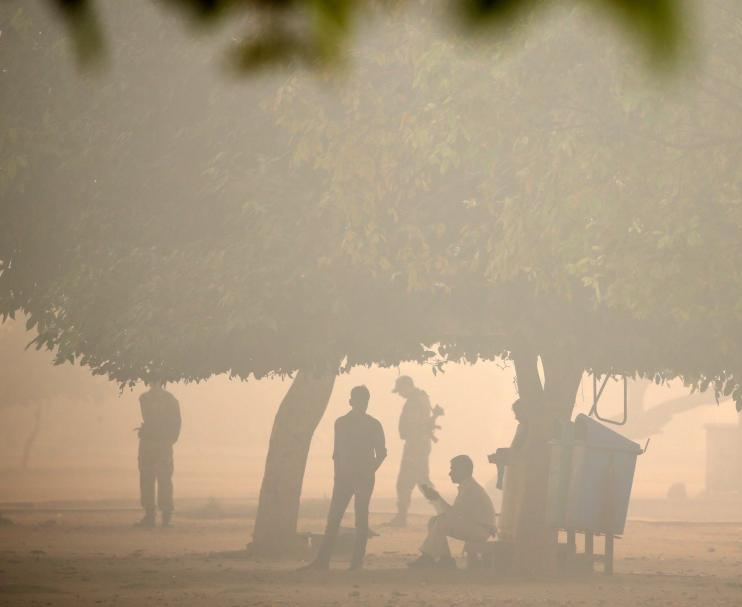person: (306, 383, 389, 579), (402, 454, 504, 572), (387, 373, 457, 527), (488, 398, 545, 572), (132, 367, 187, 529)
